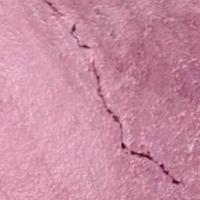crack: (36, 0, 190, 188)
